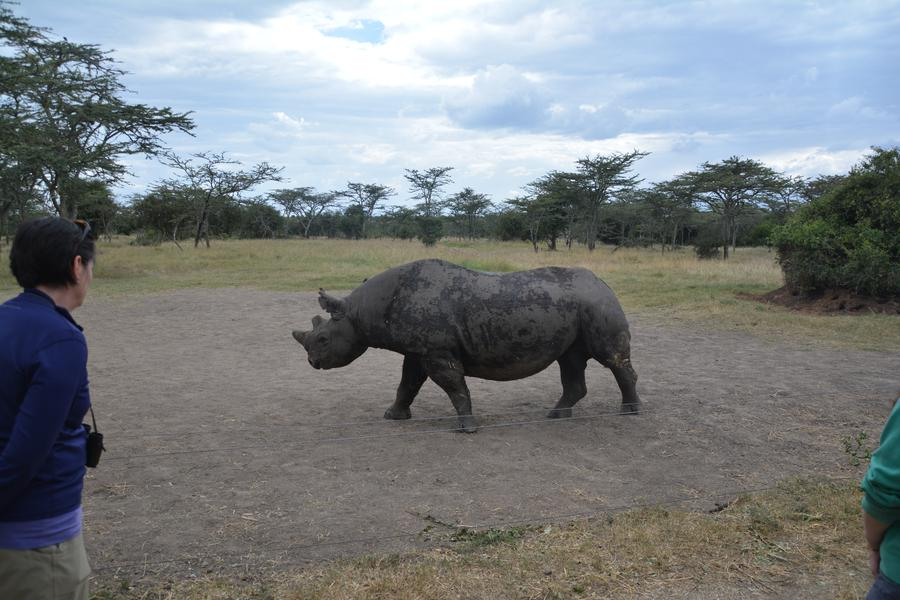rhino: (310, 254, 633, 406)
